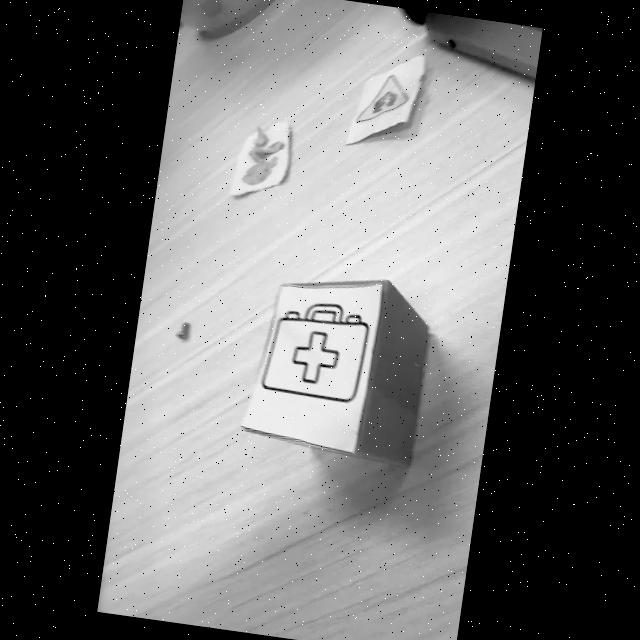Medkit: (261, 303, 370, 403)
